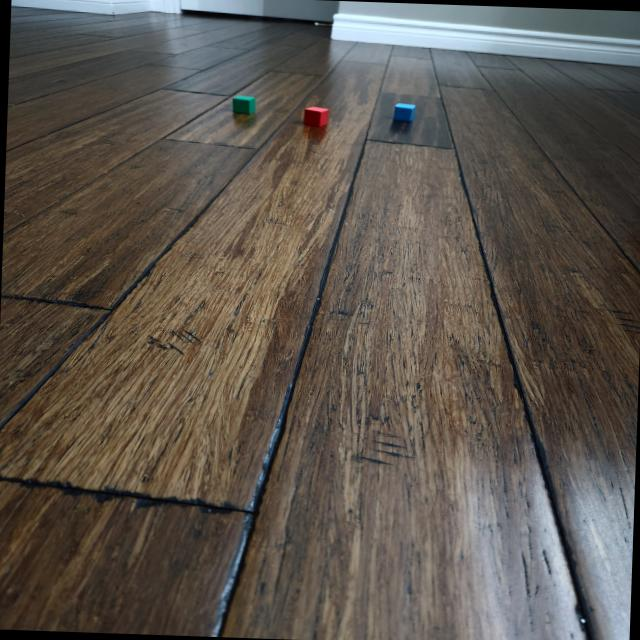bluecube: (392, 101, 416, 122)
green cube: (230, 92, 256, 114)
red cube: (304, 105, 328, 126)
